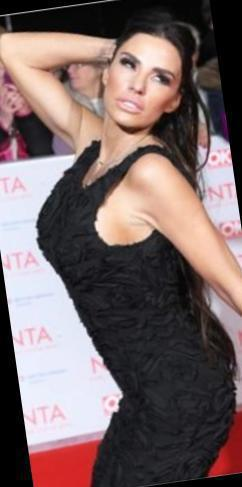Drunk: (107, 40, 176, 125)
